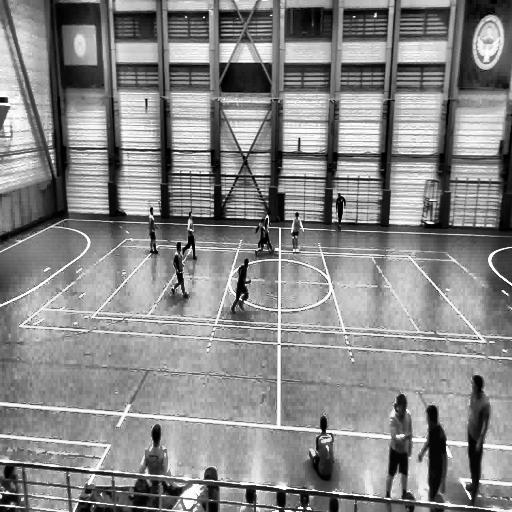ball: (275, 245, 280, 255)
player: (384, 392, 414, 507), (464, 373, 490, 505), (419, 403, 448, 507), (230, 258, 250, 314), (170, 241, 188, 298), (181, 210, 199, 263), (256, 215, 275, 256), (257, 210, 274, 255), (291, 212, 303, 255), (148, 207, 158, 255), (335, 192, 346, 229)
